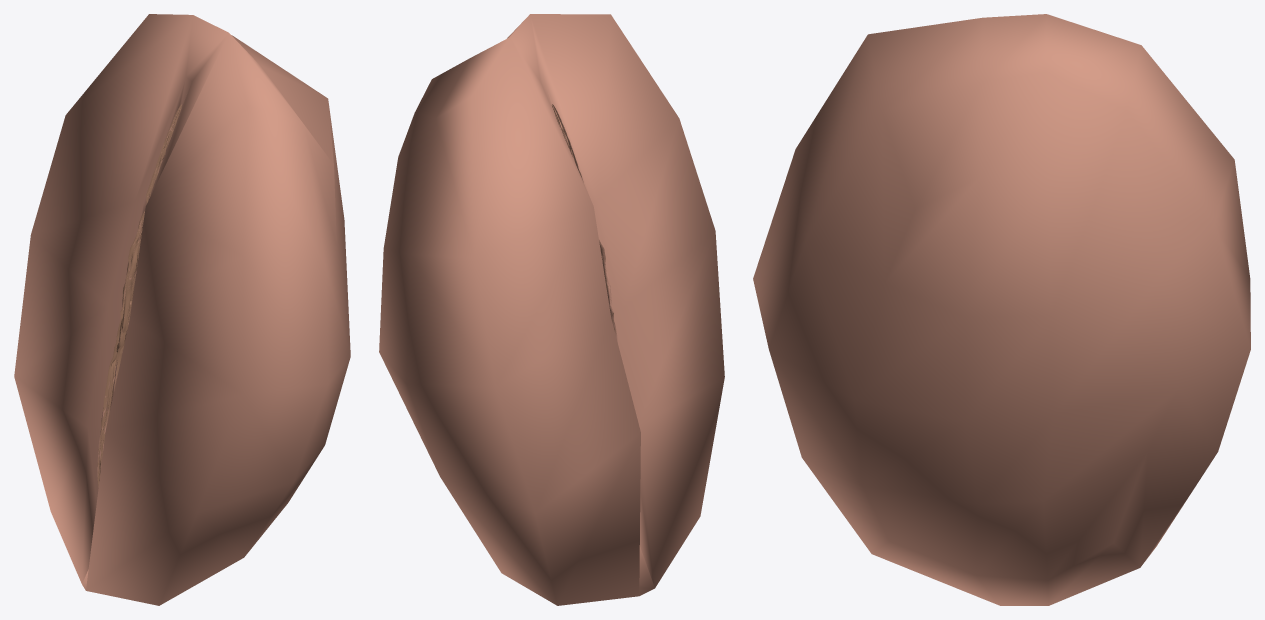
The model's file is grano.gltf.
The picture shows the model from 3 angles, left to right: view 1: azimuth 30°, elevation 25°; view 2: azimuth 150°, elevation 25°; view 3: azimuth 270°, elevation 25°; orthographic projection. The views are drawn at different scales.
Visible parts, largest first — view 1: granocafe, relieve; view 2: granocafe; view 3: granocafe.
Part boxes in pixels (x1,y1,x2,y2): granocafe: (14, 14, 350, 605); relieve: (97, 104, 182, 487); granocafe: (379, 14, 724, 605); granocafe: (753, 14, 1250, 605).
Size of the model in its own units: 1.91 by 4.05 by 2.96.
